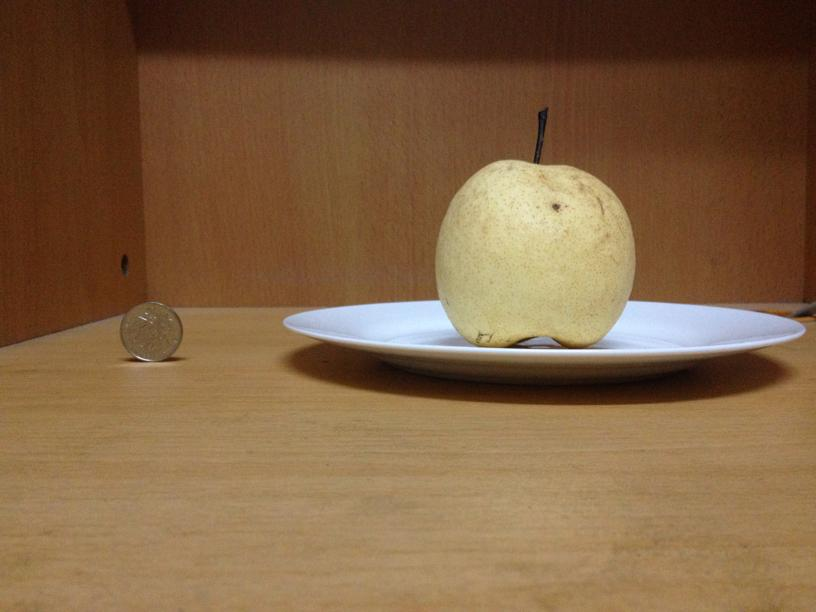coin: (120, 301, 183, 364)
pear: (430, 159, 639, 347)
